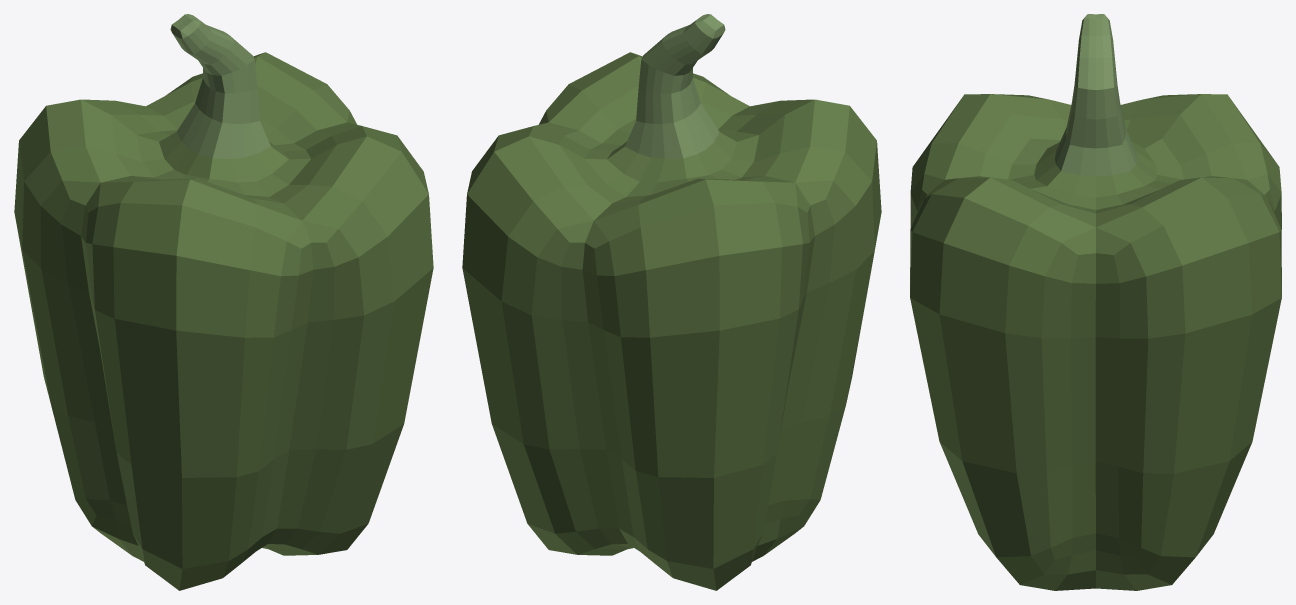
The model's file is Pepper Green.glb.
3 renders of one model, left to right at view 1: azimuth 30°, elevation 25°; view 2: azimuth 150°, elevation 25°; view 3: azimuth 270°, elevation 25°, orthographic. The views are drawn at different scales.
Visible parts, largest first — view 1: Pepper_Green; view 2: Pepper_Green; view 3: Pepper_Green.
Boxes of the visible parts, left/top/right/bottom form: Pepper_Green: left=14, top=14, right=433, bottom=590; Pepper_Green: left=462, top=14, right=881, bottom=590; Pepper_Green: left=910, top=14, right=1281, bottom=590.
Bounding box in the file's own units: 0.674 × 1.12 × 0.7118.
